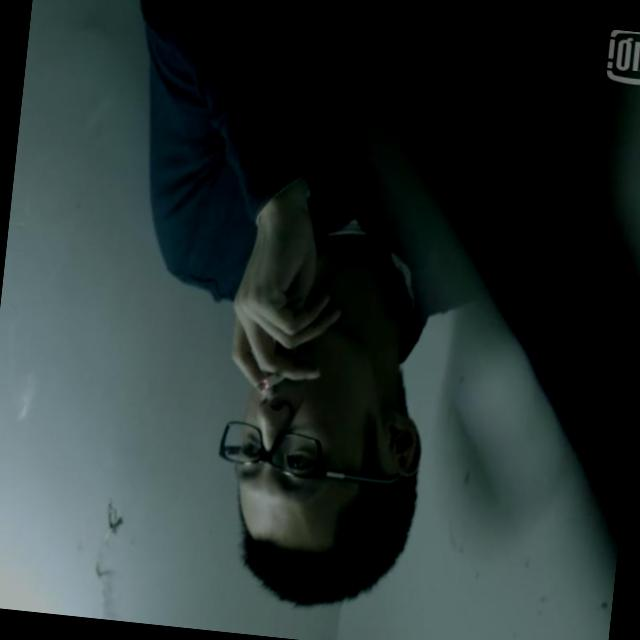cigarette: (253, 367, 284, 398)
